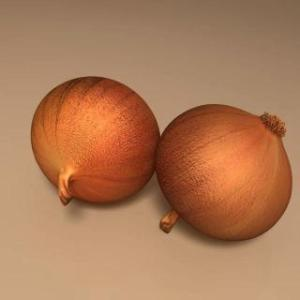onion: (156, 102, 294, 244), (30, 76, 166, 206)
